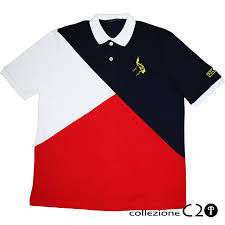C_polo shirt: (5, 19, 220, 208)
